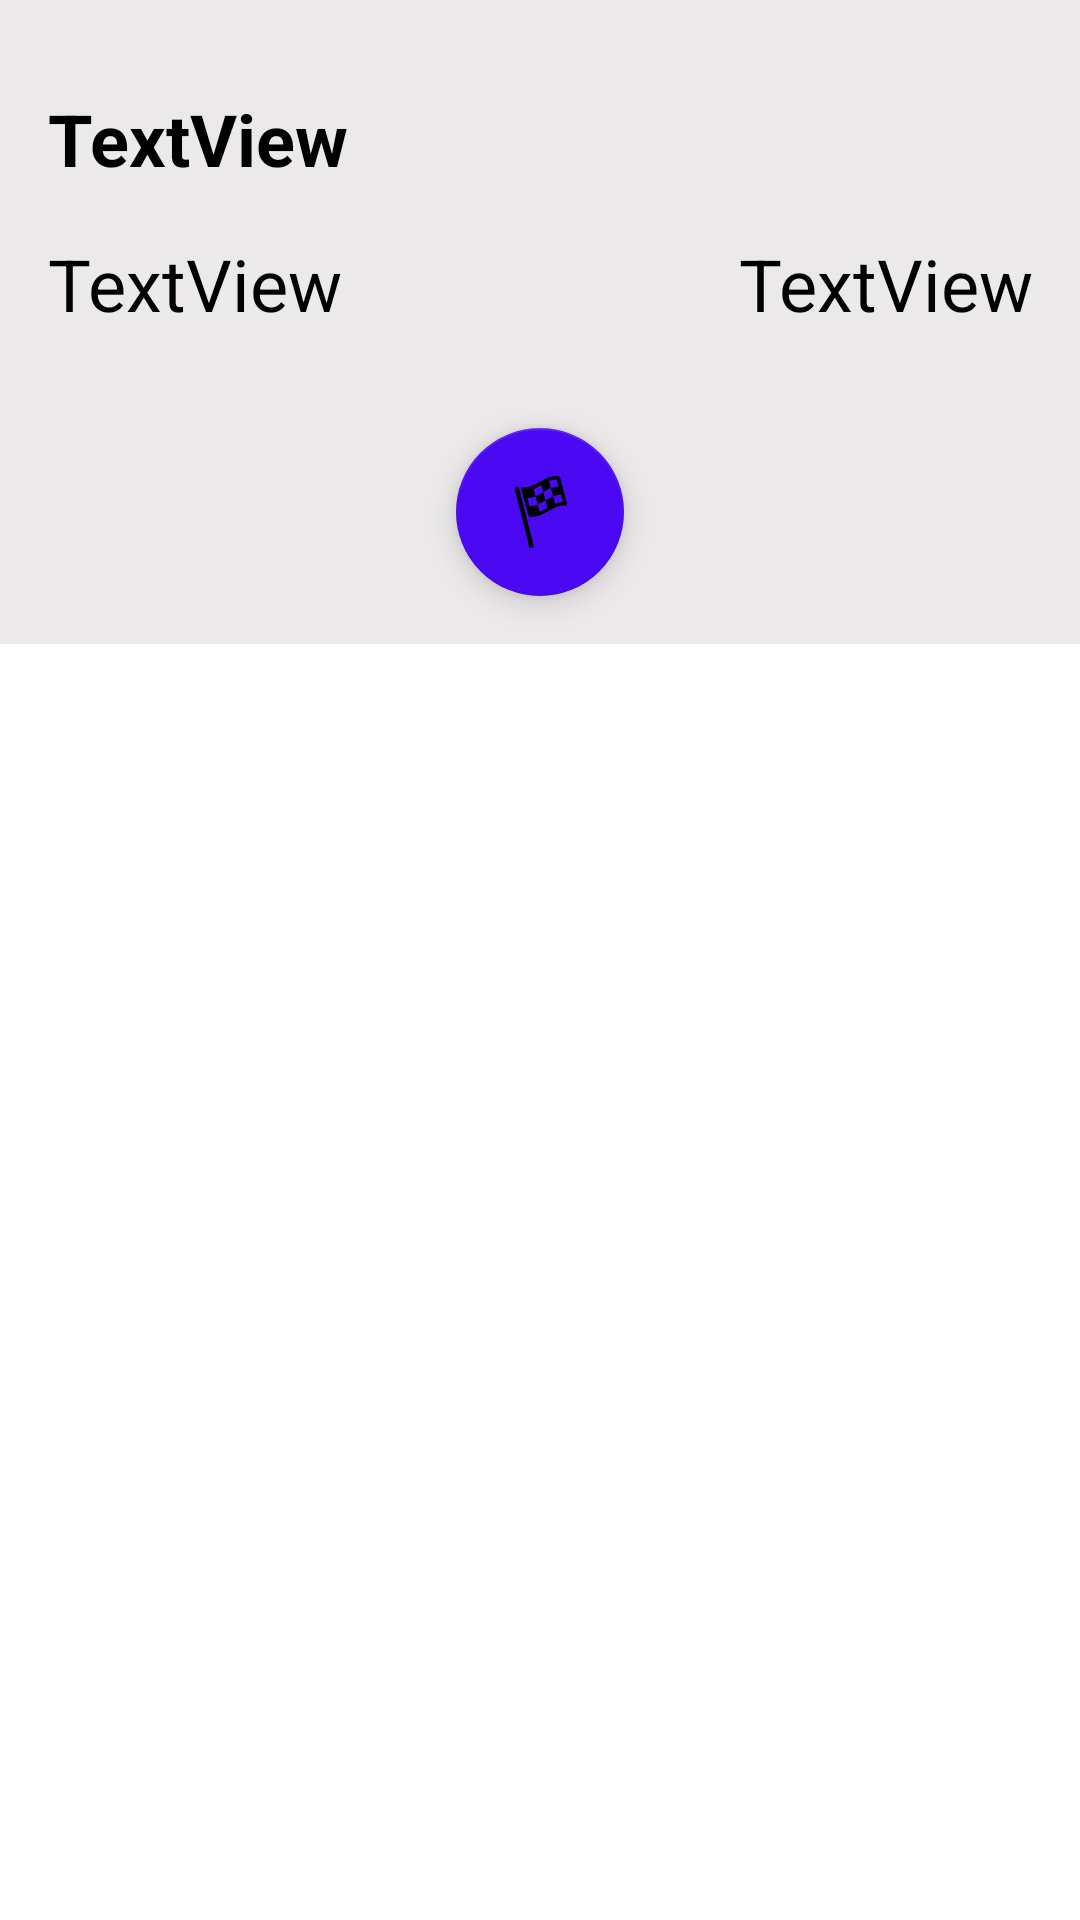

Point at icon controls on the screen. Image size 1080px x 1920px, points as (x=x, y=y).
checker: (x=540, y=512)
